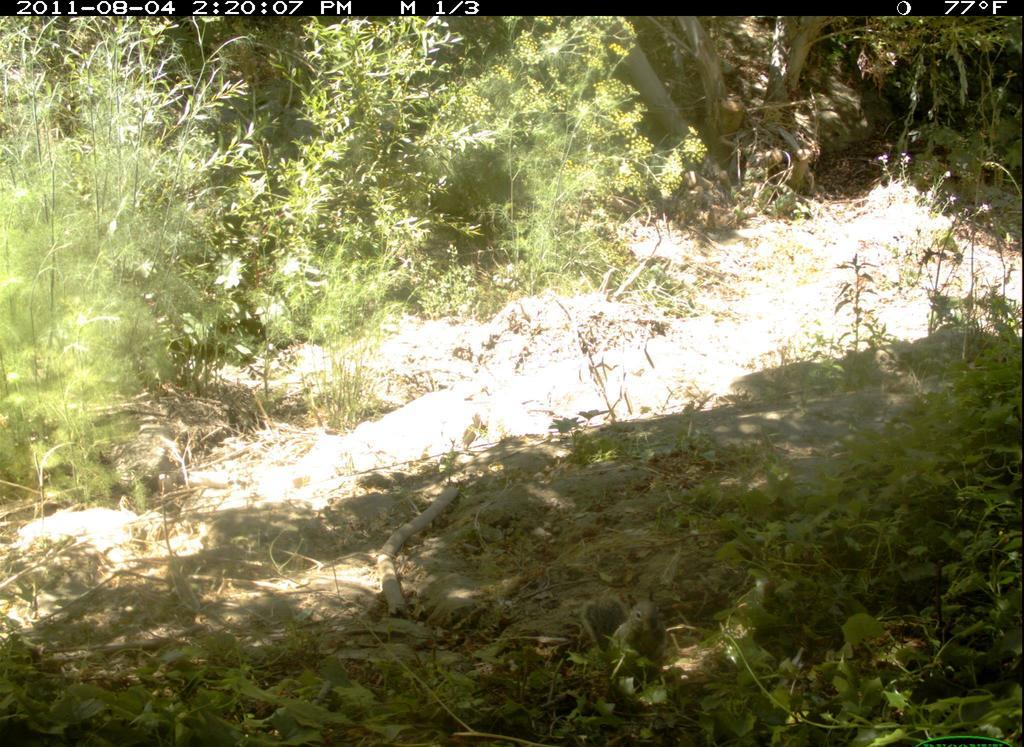squirrel: (559, 588, 693, 673)
